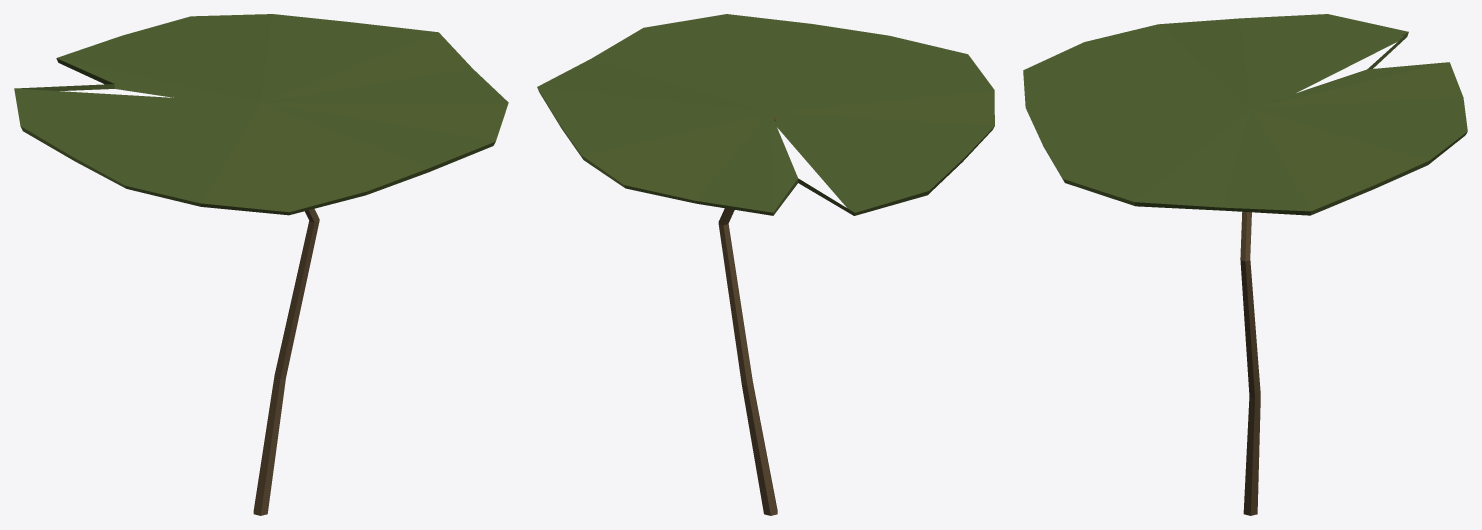
The model's file is plant_004c_lily_pad.glb.
3 renders of one model, left to right at view 1: azimuth 30°, elevation 25°; view 2: azimuth 150°, elevation 25°; view 3: azimuth 270°, elevation 25°, orthographic. The views are drawn at different scales.
Parts seen in each view (by area): view 1: plant_004c_lily_pad__pad, plant_004c_lily_pad__stem; view 2: plant_004c_lily_pad__pad, plant_004c_lily_pad__stem; view 3: plant_004c_lily_pad__pad, plant_004c_lily_pad__stem.
Boxes of the visible parts, x1=… form: plant_004c_lily_pad__pad: x1=14, y1=14, x2=508, y2=215; plant_004c_lily_pad__stem: x1=253, y1=208, x2=319, y2=515; plant_004c_lily_pad__pad: x1=537, y1=14, x2=994, y2=215; plant_004c_lily_pad__stem: x1=718, y1=117, x2=777, y2=515; plant_004c_lily_pad__pad: x1=1023, y1=14, x2=1467, y2=215; plant_004c_lily_pad__stem: x1=1240, y1=211, x2=1260, y2=515.
Bounding box in the file's own units: 1.58 × 1.51 × 1.5.
